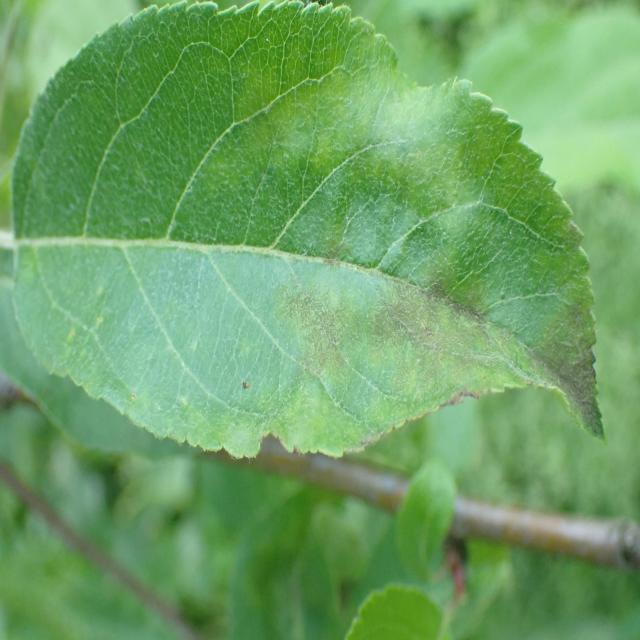scab: (251, 193, 614, 454)
